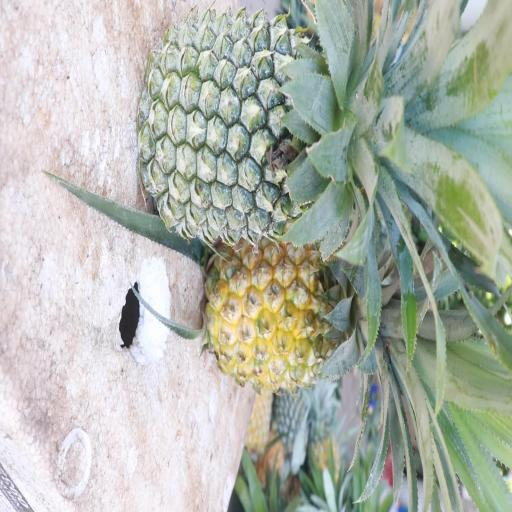Pineapple - v8 v1: (207, 238, 464, 475)
